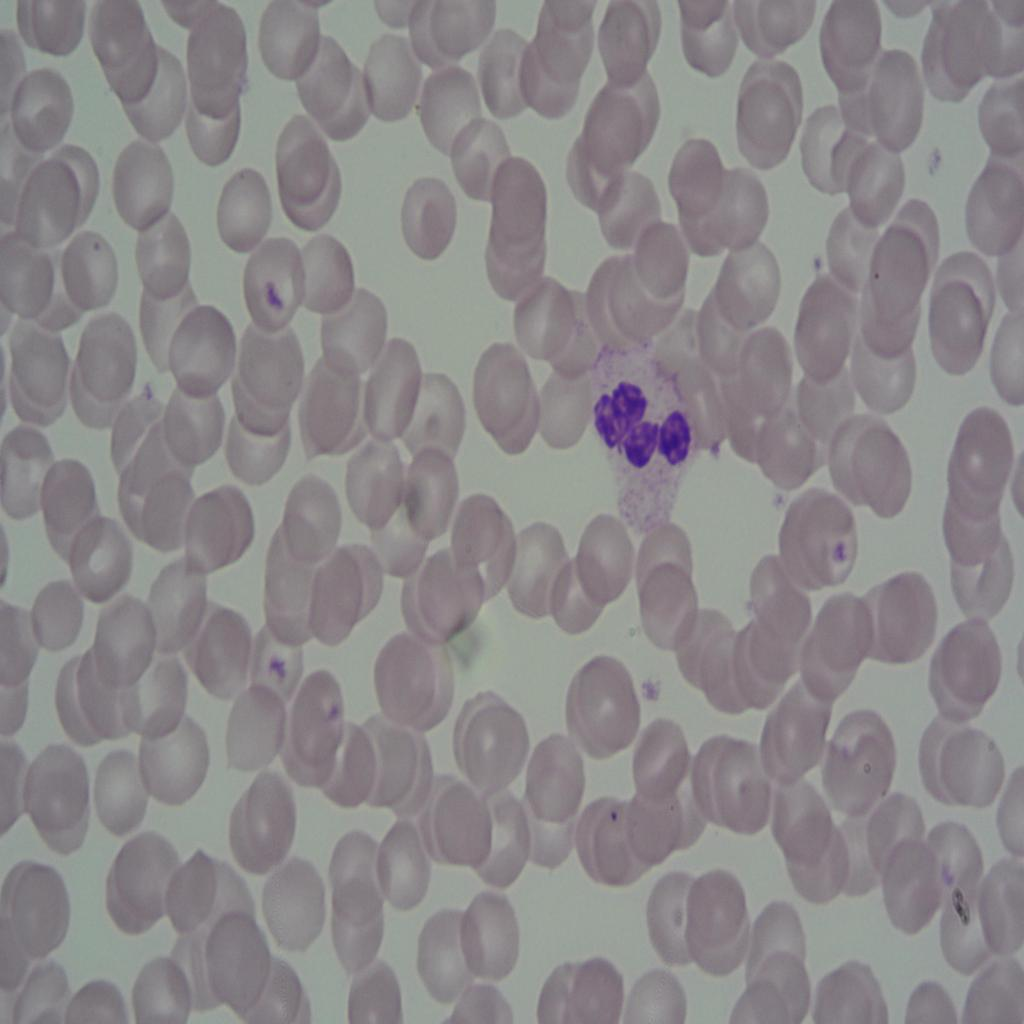Neutrofil: (578, 338, 695, 543)
